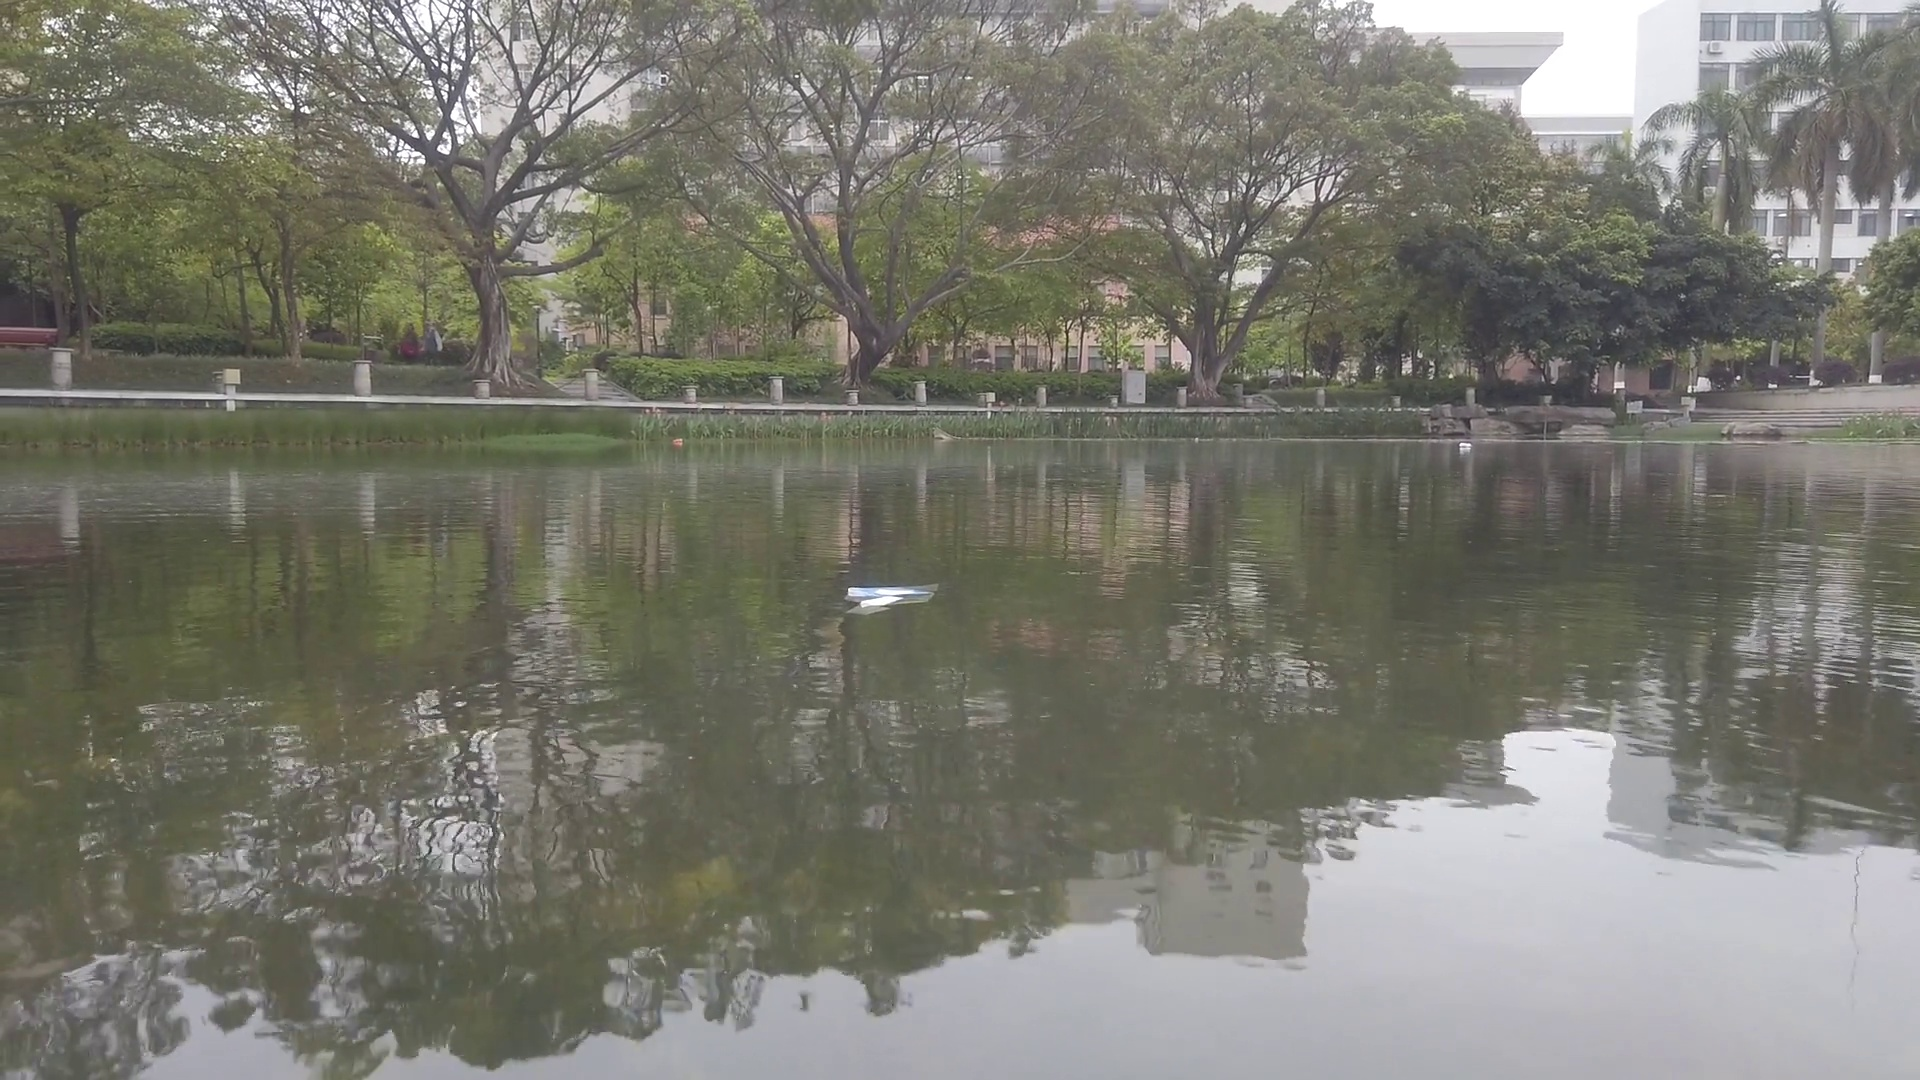bottle: (1458, 443, 1476, 448), (674, 438, 684, 443)
carton: (843, 585, 938, 615)
